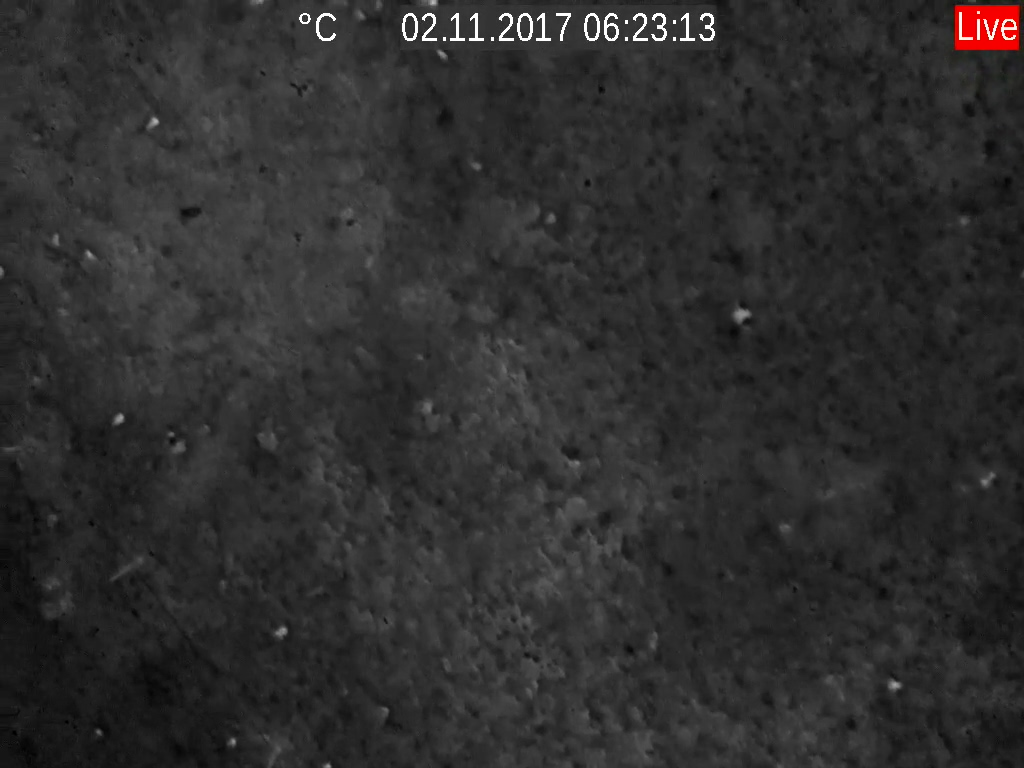warren: (106, 551, 150, 586), (726, 299, 755, 331), (269, 617, 294, 644), (140, 110, 163, 139), (883, 672, 909, 695), (108, 409, 129, 427)
